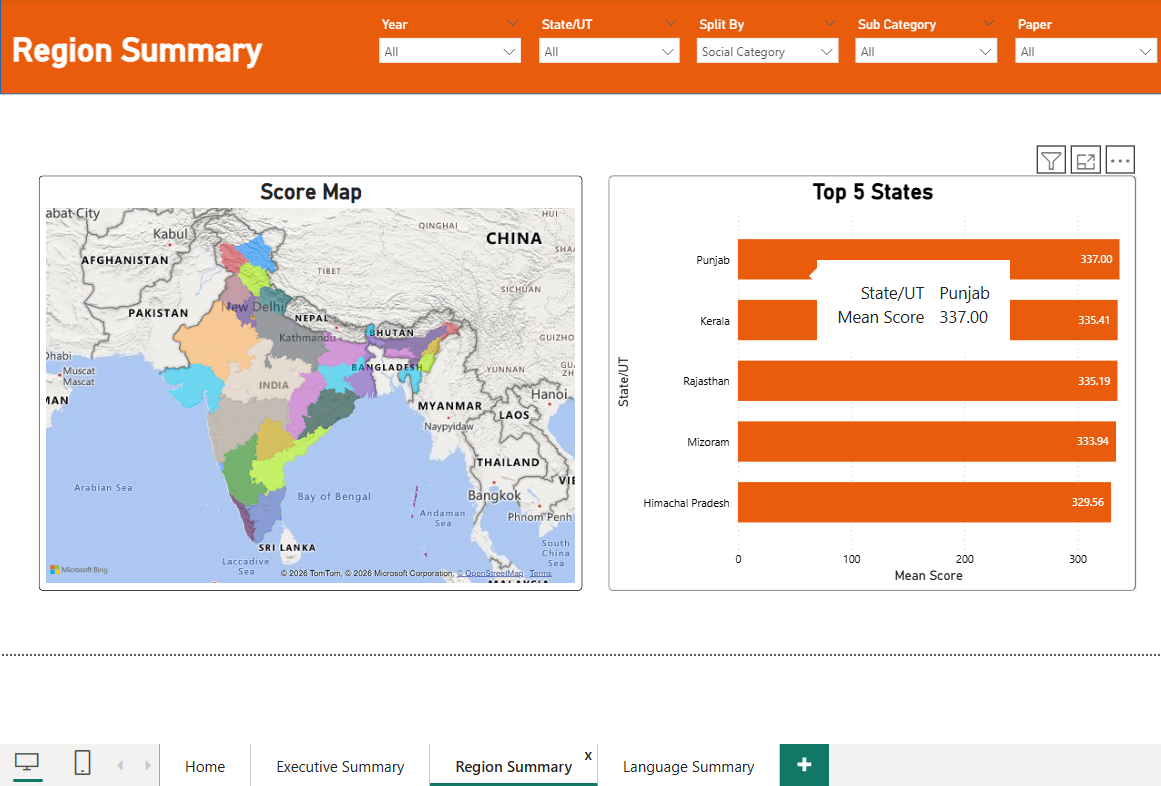

The page's visual inventory and layout, read from the dashboard file:
{"tool":"powerbi","page":{"name":"Region Summary","canvas":[1280,720],"ordinal":2},"visuals":[{"type":"filledMap","title":"Score Map","fields":{"Category":["Table.State_Clean"],"Series":["NAS & Parakh Data Combined.Mean Score"]},"box":[42.6,195.1,596.7,455.7],"z":0},{"type":"barChart","title":"Top 5 States","fields":{"Category":["NAS & Parakh Data Combined.State/UT"],"Y":["Avg(NAS & Parakh Data Combined.Mean Score)"]},"box":[668.9,195.1,578.7,455.7],"z":1000},{"type":"shape","box":[0,0,1280,105.7],"z":2000},{"type":"slicer","fields":{"Values":["NAS & Parakh Data Combined.State/UT"]},"box":[582,14.8,173.8,75.4],"z":3000},{"type":"slicer","fields":{"Values":["NAS & Parakh Data Combined.Paper"]},"box":[1104.9,14.8,175.4,75.4],"z":4000},{"type":"slicer","fields":{"Values":["NAS & Parakh Data Combined.Split By"]},"box":[754.1,14.8,175.4,75.4],"z":5000},{"type":"slicer","fields":{"Values":["NAS & Parakh Data Combined.Sub Category"]},"box":[929.5,14.8,175.4,75.4],"z":6000},{"type":"slicer","fields":{"Values":["NAS & Parakh Data Combined.Year"]},"box":[406.6,14.8,175.4,75.4],"z":7000},{"type":"card","fields":{"Values":["NAS & Parakh Data Combined.Region Summary"]},"box":[0,0,301.6,106.6],"z":8000}]}

Visuals, with their boxes on the page's 1280x720 design canvas (x1, y1, x2, y2). These are canvas units, not pixel positions in the 1161x786 screenshot, which may show the page scaled, cropped or inside an application window:
"Score Map" filledMap: rect(43, 195, 639, 651)
"Top 5 States" barChart: rect(669, 195, 1248, 651)
shape: rect(0, 0, 1280, 106)
slicer - NAS & Parakh Data Combined.State/UT: rect(582, 15, 756, 90)
slicer - NAS & Parakh Data Combined.Paper: rect(1105, 15, 1280, 90)
slicer - NAS & Parakh Data Combined.Split By: rect(754, 15, 930, 90)
slicer - NAS & Parakh Data Combined.Sub Category: rect(930, 15, 1105, 90)
slicer - NAS & Parakh Data Combined.Year: rect(407, 15, 582, 90)
card - NAS & Parakh Data Combined.Region Summary: rect(0, 0, 302, 107)
